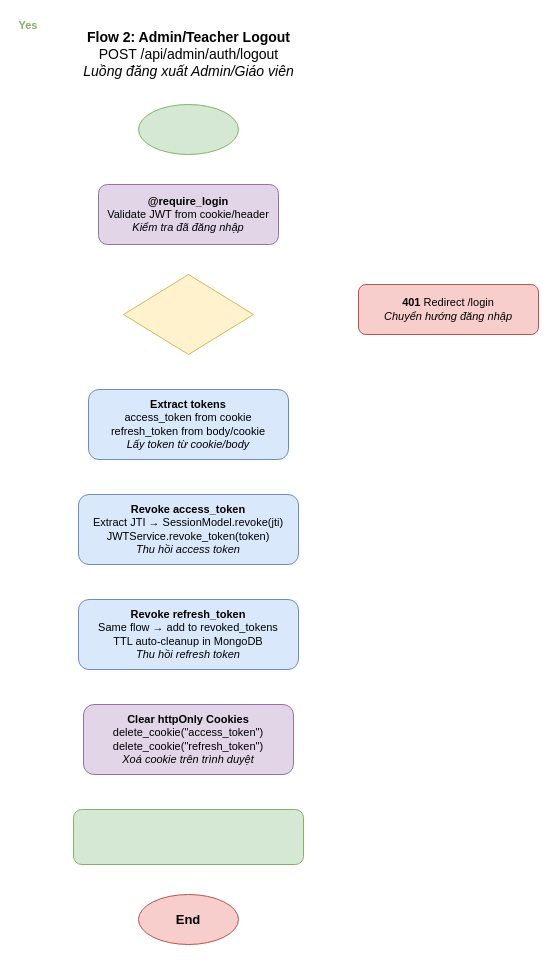
Image size: 556x962. Some labels were removed from this diagram. Each missing label, with the centre of its shape:
200 OK {success: true, message: "Dang xuat thanh cong"} Đăng xuất thành công: pixel 188 836
Authenticated? Đã xác thực?: pixel 188 314
Start: pixel 188 129
